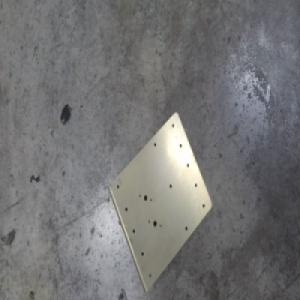MetalSheet: (107, 111, 212, 294)
